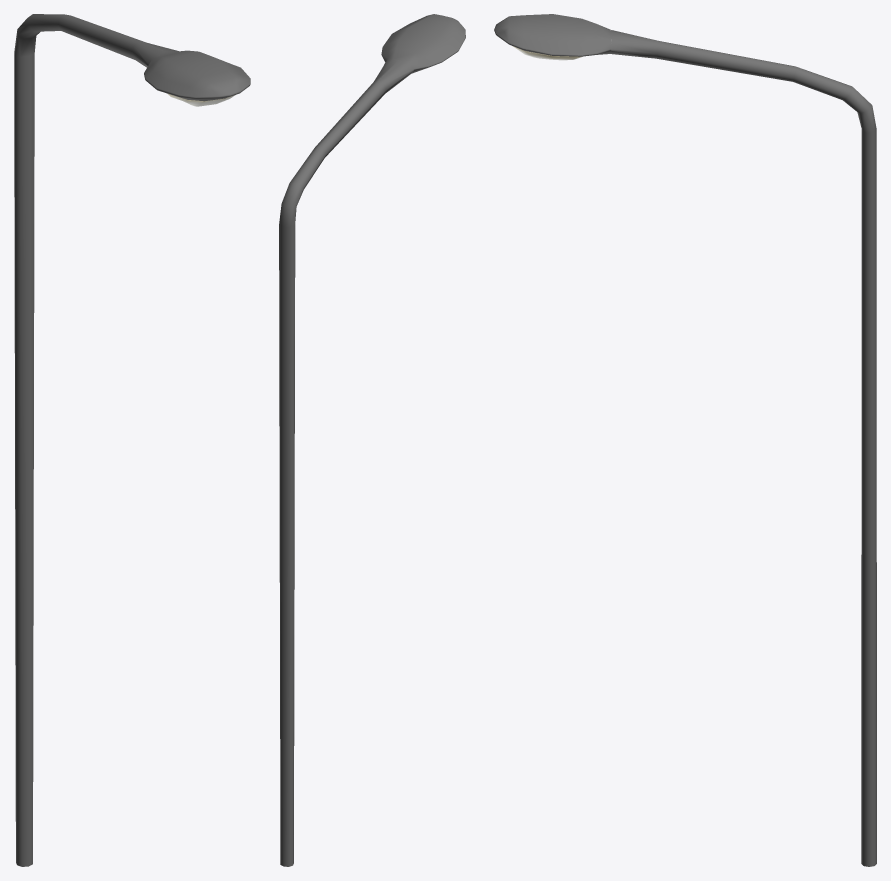
Rendered from Olight.fbx.
3 views of the same model, side by side, from view 1: azimuth 30°, elevation 25°; view 2: azimuth 150°, elevation 25°; view 3: azimuth 270°, elevation 25° (orthographic). The views are drawn at different scales.
Visible parts, largest first — view 1: pCube1; view 2: pCube1; view 3: pCube1.
Part boxes in pixels (bbox=[...]): pCube1: bbox=[14, 14, 250, 866]; pCube1: bbox=[279, 14, 465, 866]; pCube1: bbox=[494, 14, 876, 866].
Bounding box in the file's own units: 8.74 × 91.1 × 37.54.
Materials: 1 (1 with a texture image).
